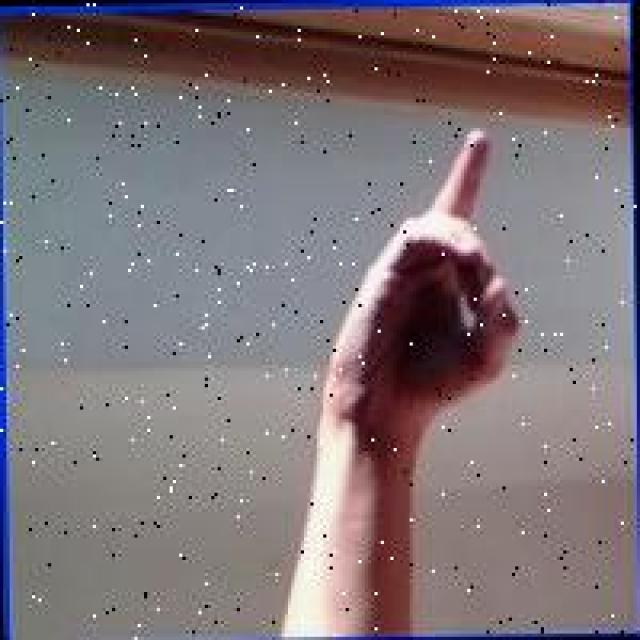D: (323, 101, 534, 475)
